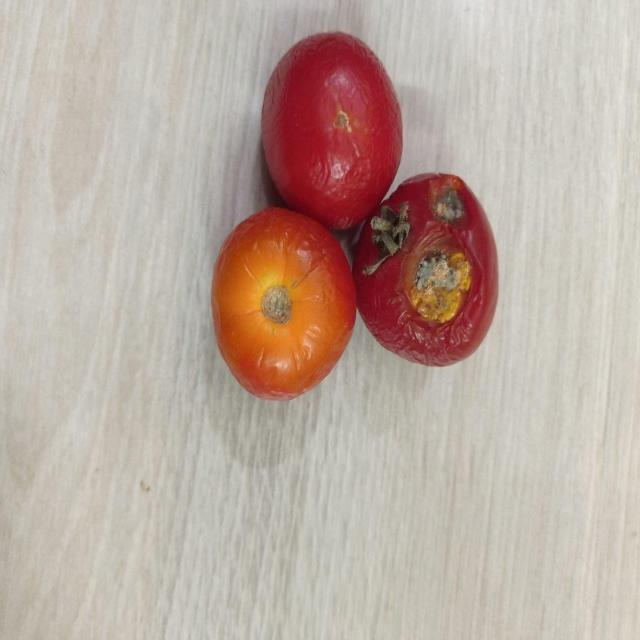Rotten: (353, 170, 497, 367)
overripe: (260, 28, 402, 229), (211, 208, 356, 398)
